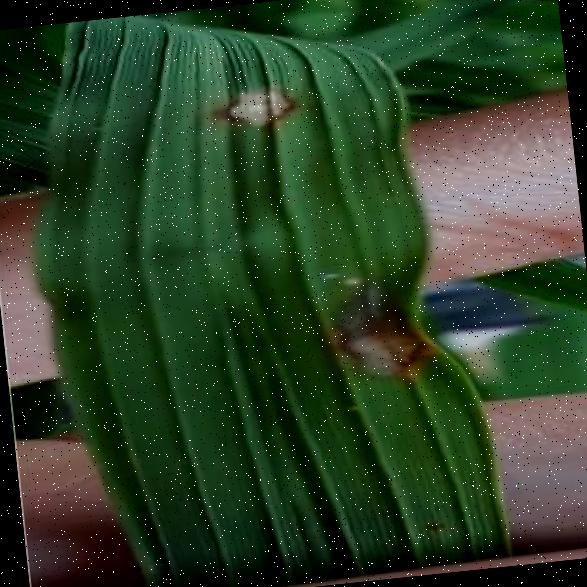Leaf_smut: (274, 251, 434, 408), (179, 52, 318, 164)
